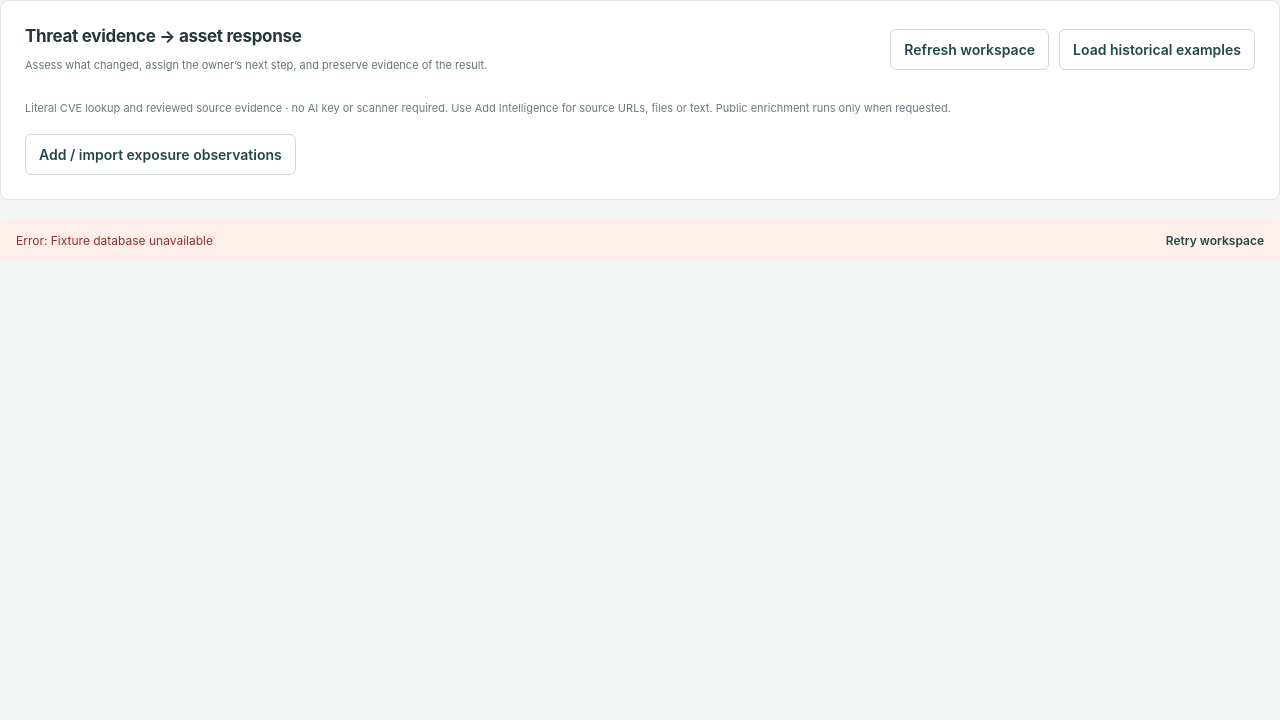
Test case: shows a failed request and supports retry without inventing an empty success
Check: the message "Error: Fixture database unavailable Retry workspace" is shown, box [0,220,1279,262]
What coordinates should you click on to do the following:
click the button "Retry workspace"
I would click on:
 (1215, 241)
Its box is [1166,232,1264,250].
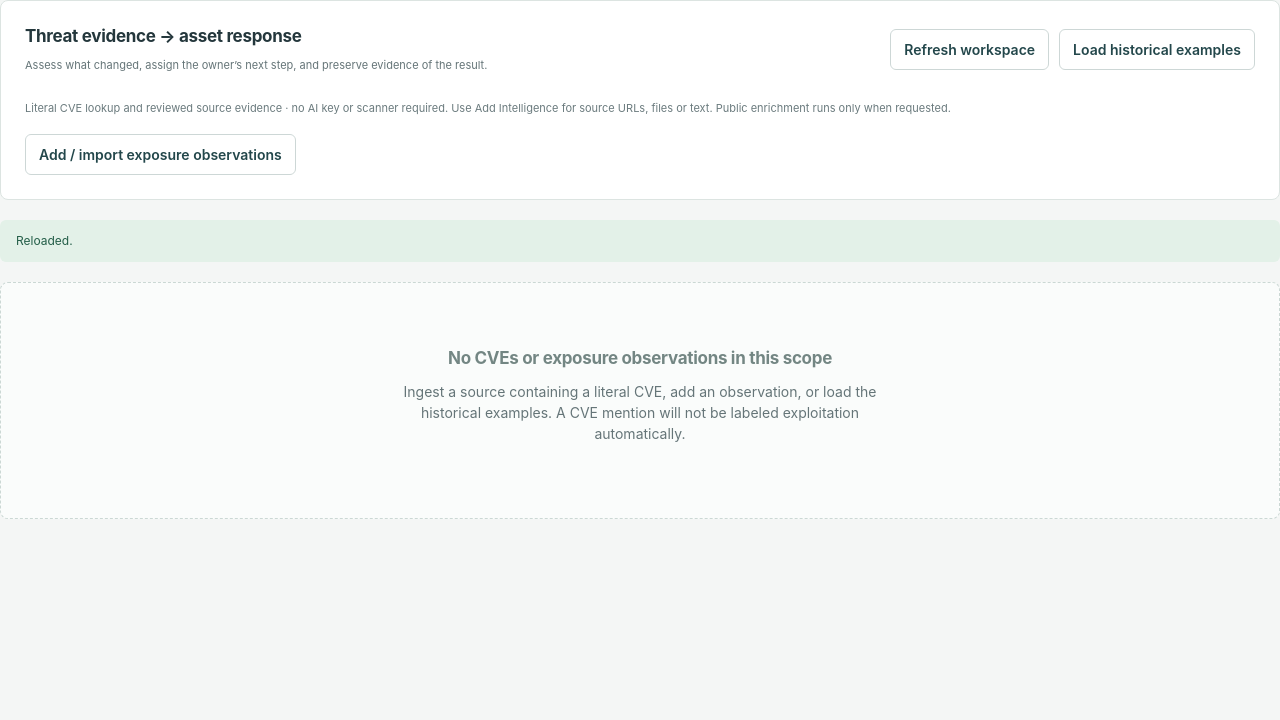
Check: the heading "No CVEs or exposure observations in this scope" is shown, box [448,348,832,368]
